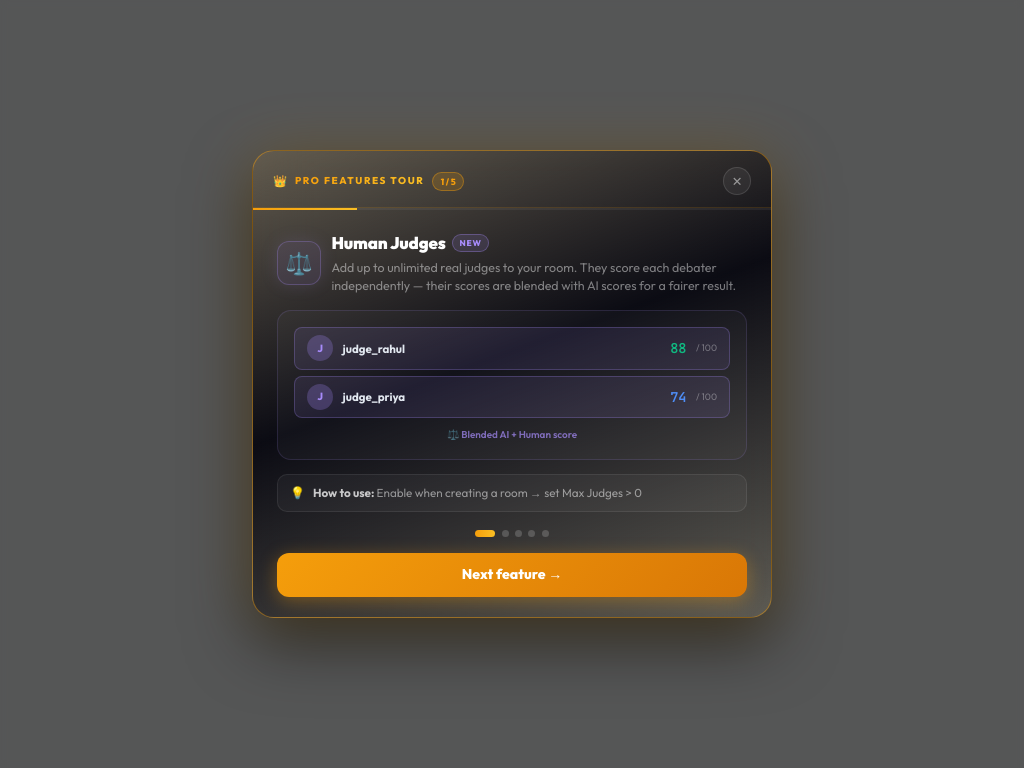
Test: ProWelcomeModal — dot indicator navigation › clicking the 1st dot from slide 3 returns to slide 1
Click the 4th button at (518, 534), box [515,530,522,537]
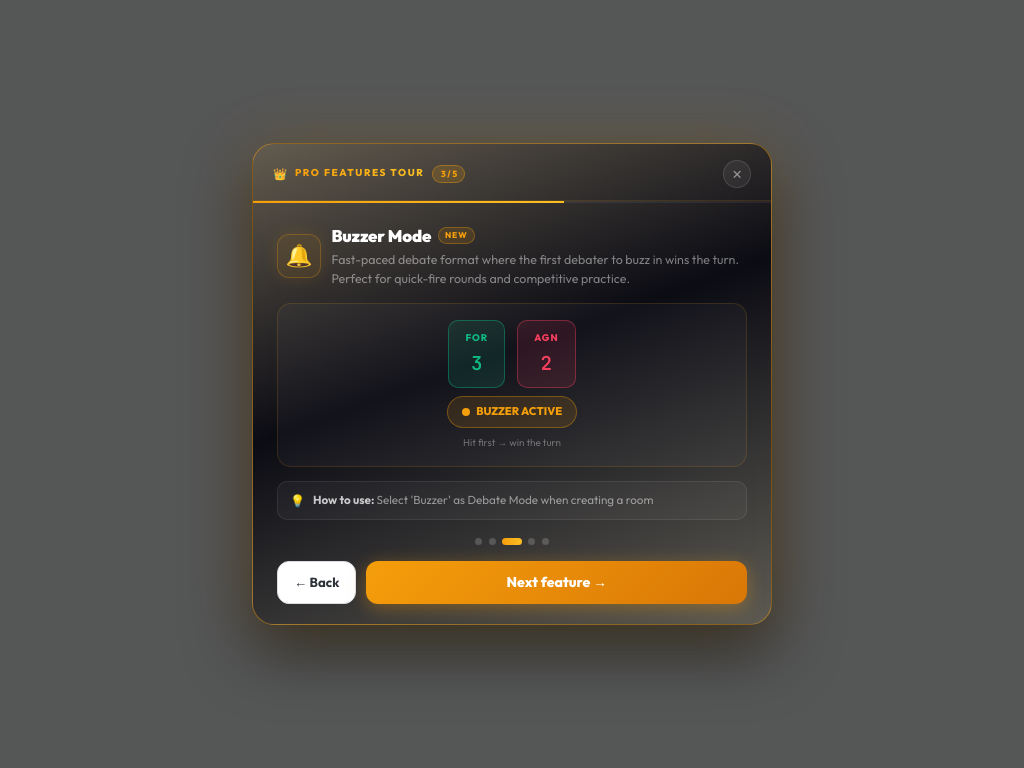
Click the 2nd button at (479, 541), box [475,538,482,545]
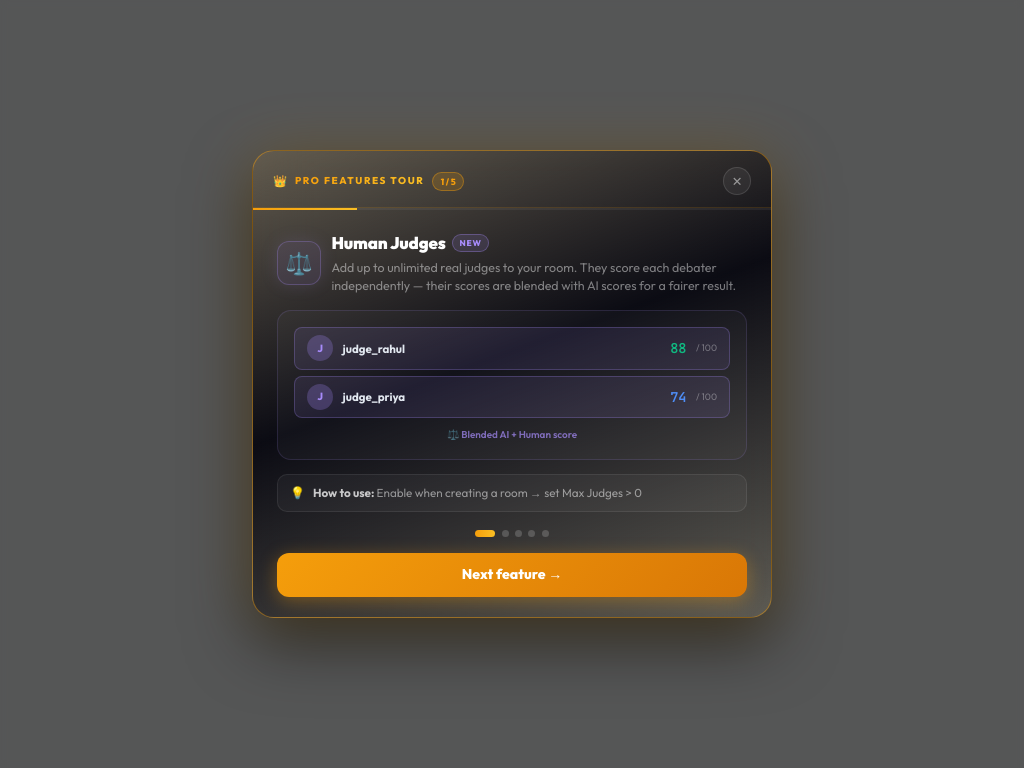
Result: the heading "Human Judges" is shown at [331,230,446,256]
